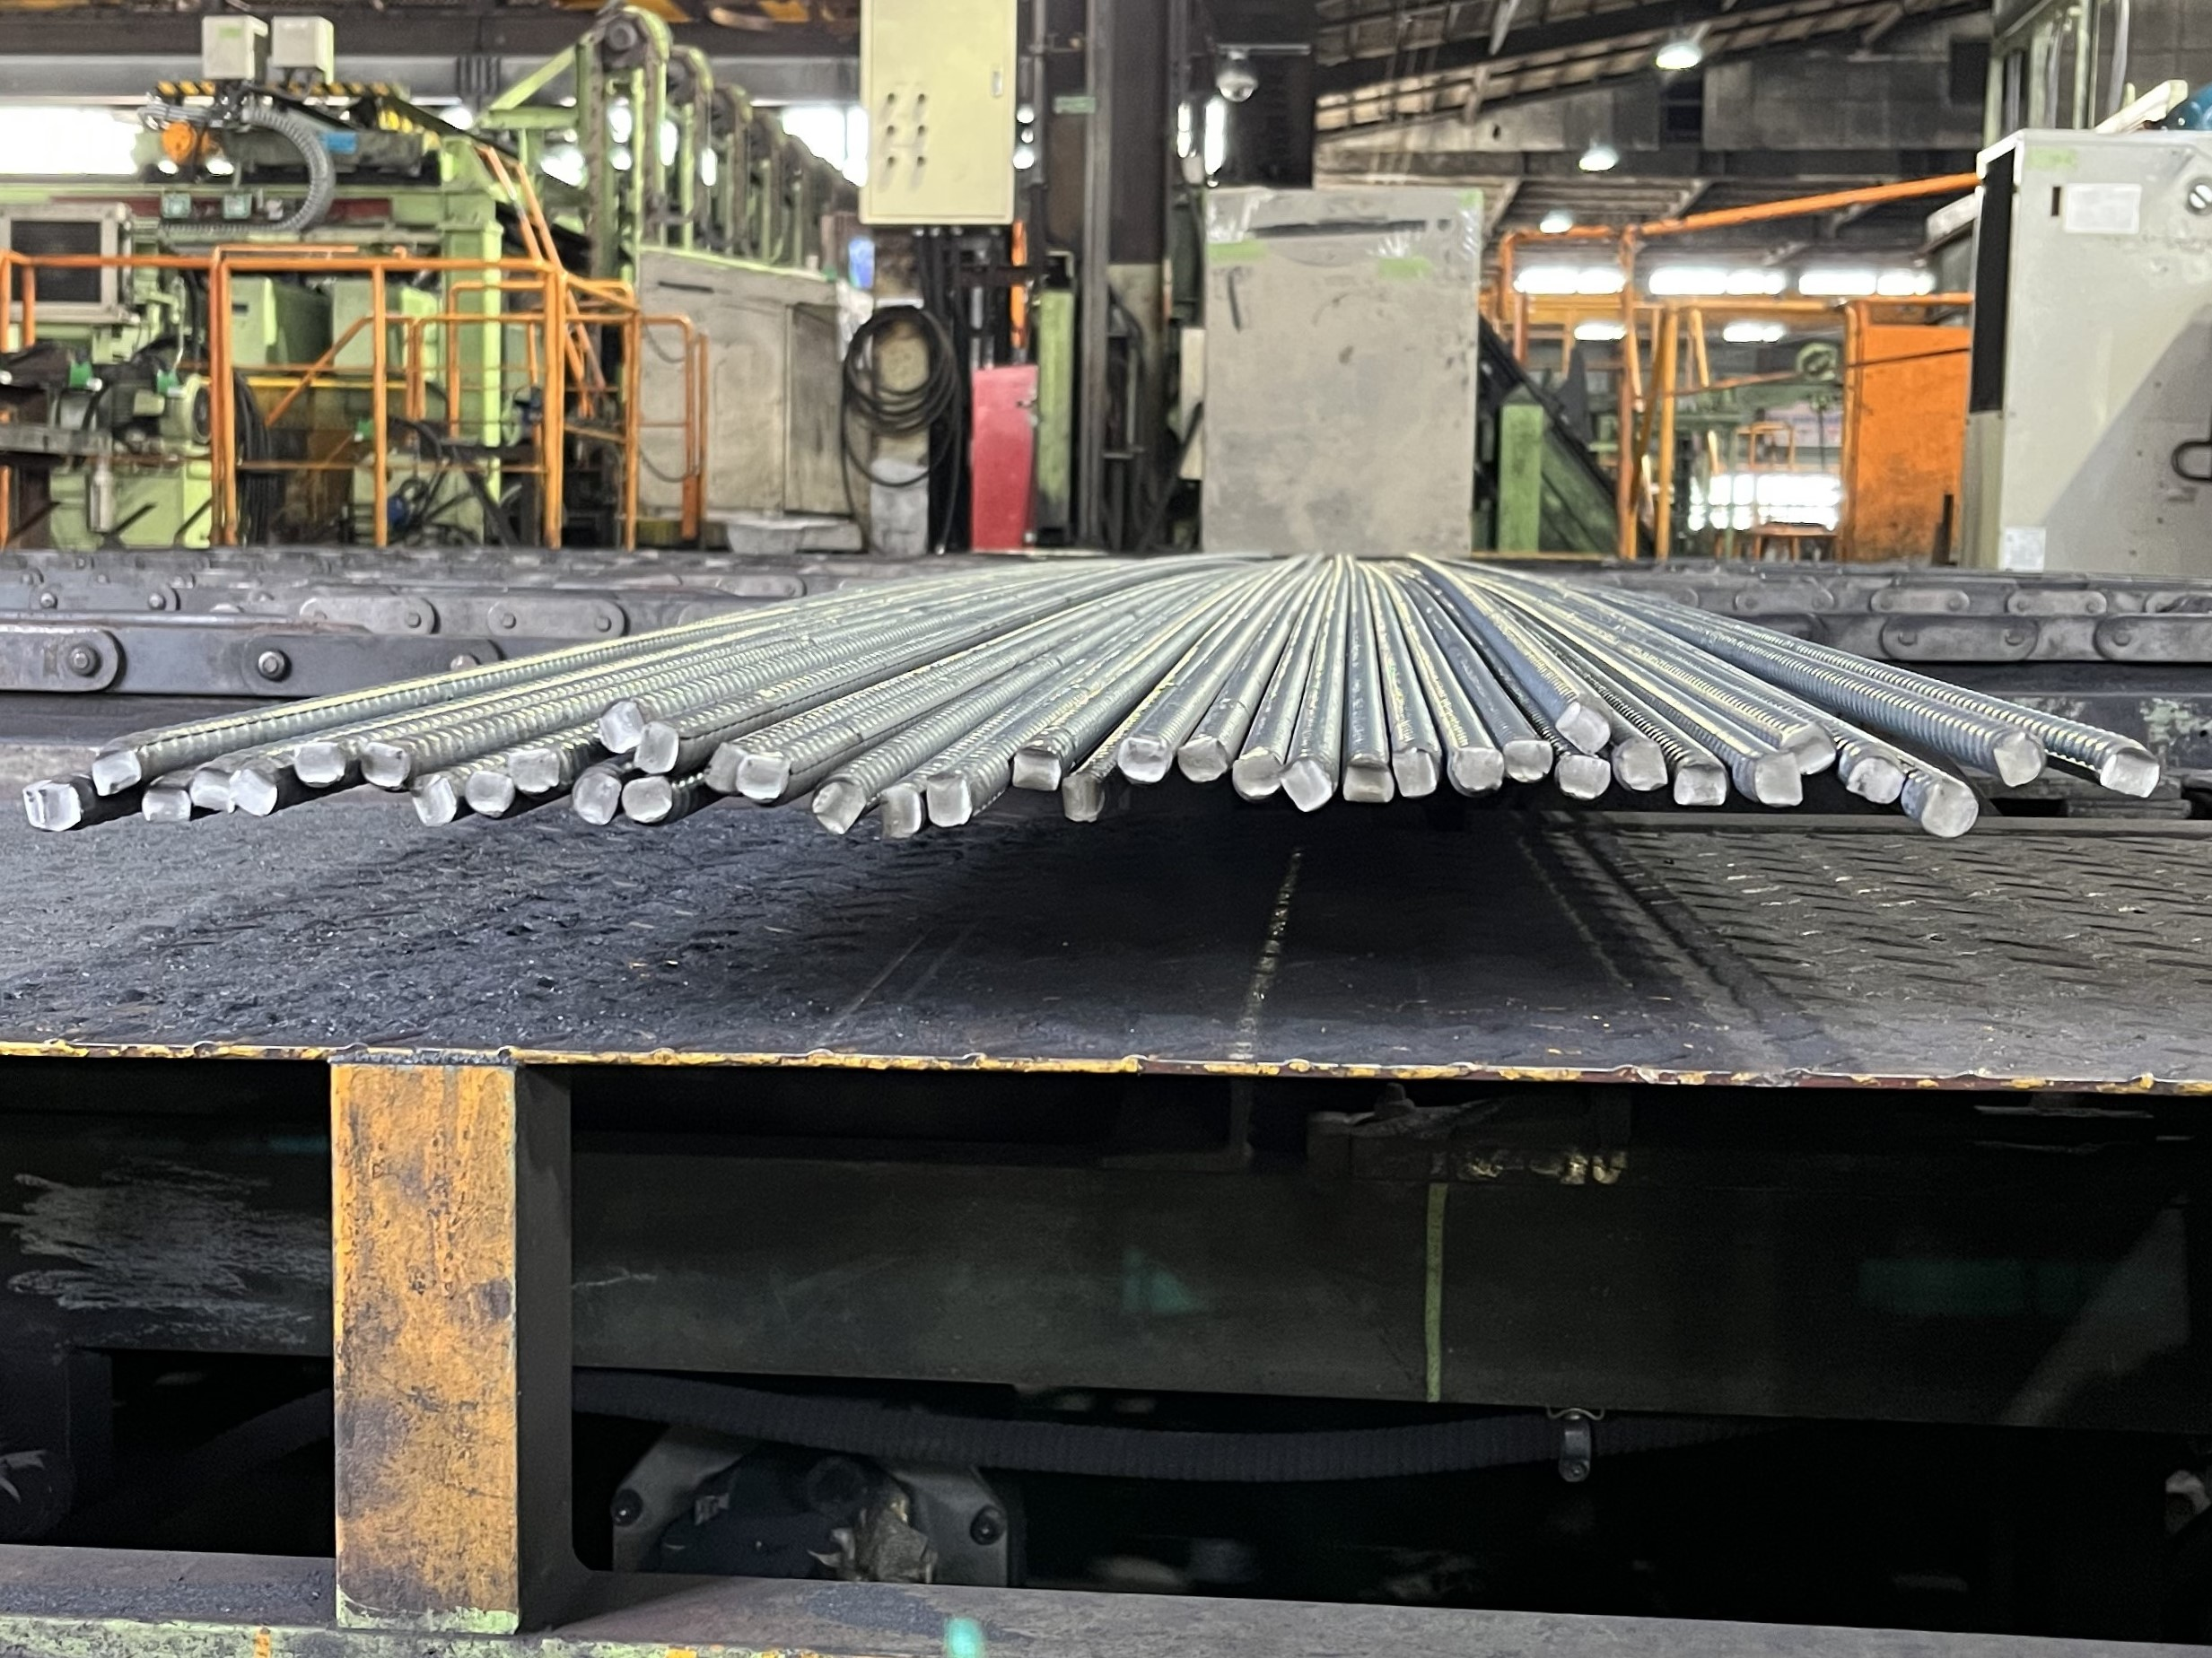rod: (1918, 773, 1984, 843), (2090, 740, 2163, 803), (808, 777, 867, 836), (1989, 730, 2050, 787), (1777, 721, 1839, 777), (1611, 733, 1669, 792), (1841, 756, 1905, 808), (1280, 758, 1338, 815), (1749, 751, 1804, 810), (730, 751, 792, 803), (874, 784, 928, 841), (1554, 700, 1611, 754), (1672, 758, 1730, 812), (1447, 745, 1505, 798), (1115, 735, 1174, 785), (1552, 752, 1611, 803), (596, 695, 644, 756), (228, 763, 282, 817), (409, 768, 458, 827), (631, 721, 683, 775), (925, 773, 977, 827), (1341, 754, 1395, 806), (571, 772, 622, 826), (618, 775, 674, 824), (463, 770, 516, 820), (1010, 744, 1062, 794), (700, 738, 749, 792), (1176, 735, 1230, 784), (291, 740, 348, 785), (91, 749, 143, 798), (361, 738, 413, 787), (509, 747, 563, 794), (1230, 751, 1284, 798), (188, 765, 237, 815), (1392, 747, 1440, 798), (1059, 772, 1106, 824), (38, 778, 84, 832), (1501, 738, 1554, 784), (138, 784, 193, 826), (21, 778, 38, 831)
